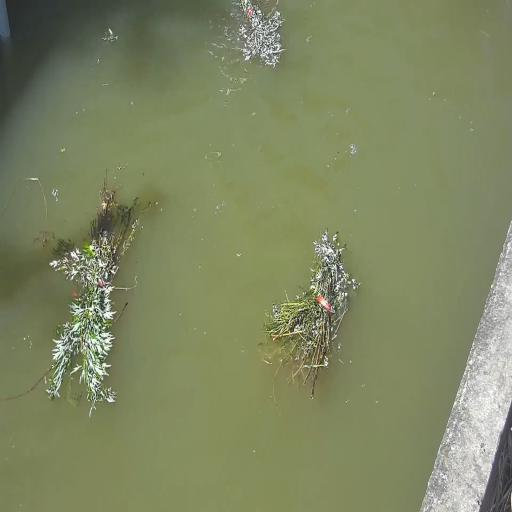twig: (2, 173, 154, 415), (260, 228, 357, 400), (210, 0, 284, 88)
